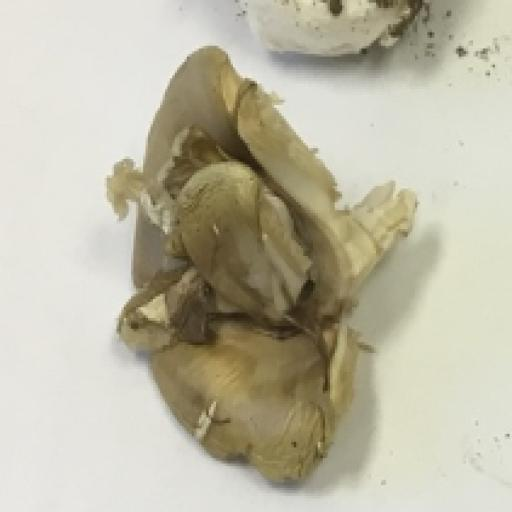mushroom: (9, 34, 482, 508)
